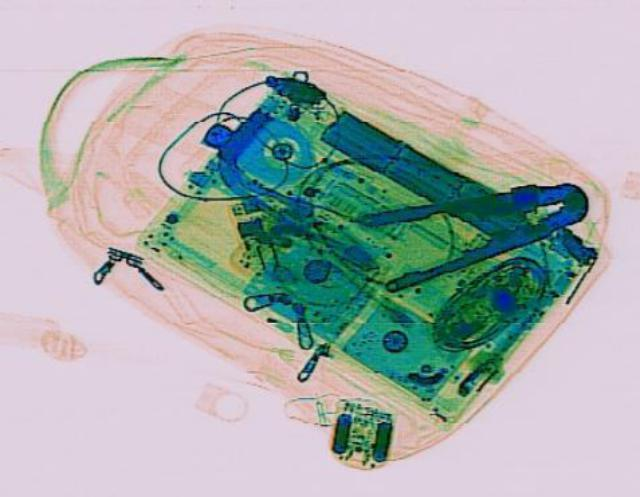Pliers: (348, 161, 604, 290)
